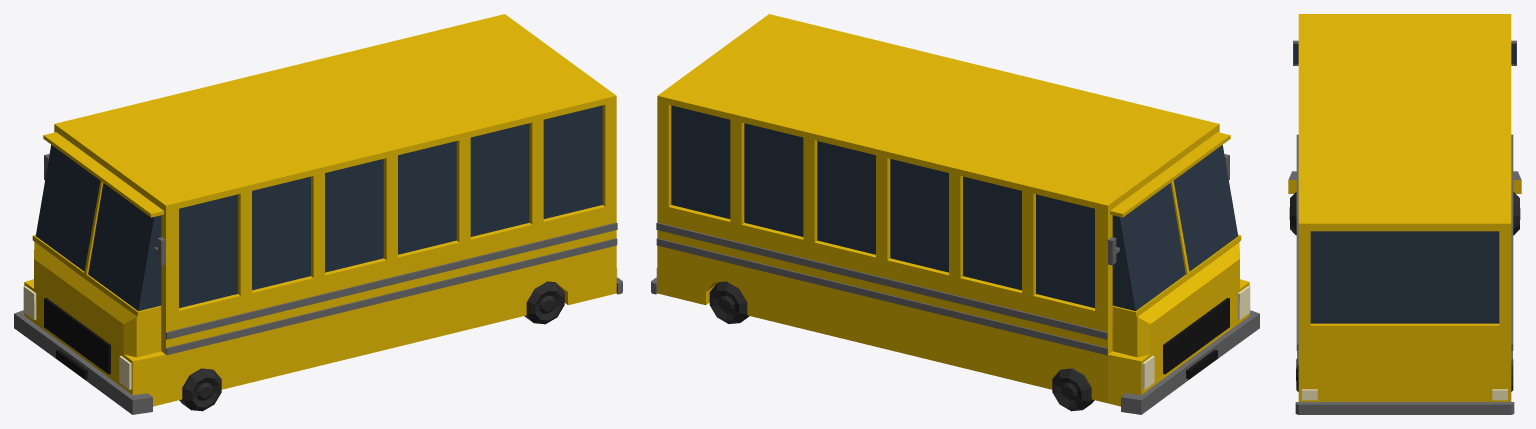
File: bus.glb
3 views of the same model, side by side, from view 1: azimuth 30°, elevation 25°; view 2: azimuth 150°, elevation 25°; view 3: azimuth 270°, elevation 25° (orthographic). The views are drawn at different scales.
Visible parts, largest first — view 1: Bus, FrontWheels, BackWheels; view 2: Bus, FrontWheels, BackWheels; view 3: Bus, FrontWheels.
Boxes of the visible parts, x1,y1,x2,y2 form: Bus: [14, 14, 622, 414]; FrontWheels: [179, 368, 221, 411]; BackWheels: [524, 281, 564, 324]; Bus: [651, 14, 1259, 414]; FrontWheels: [1052, 368, 1094, 411]; BackWheels: [709, 281, 749, 323]; Bus: [1288, 14, 1521, 414]; FrontWheels: [1289, 192, 1520, 235].
Bounding box in the file's own units: 409 × 168 × 174.
